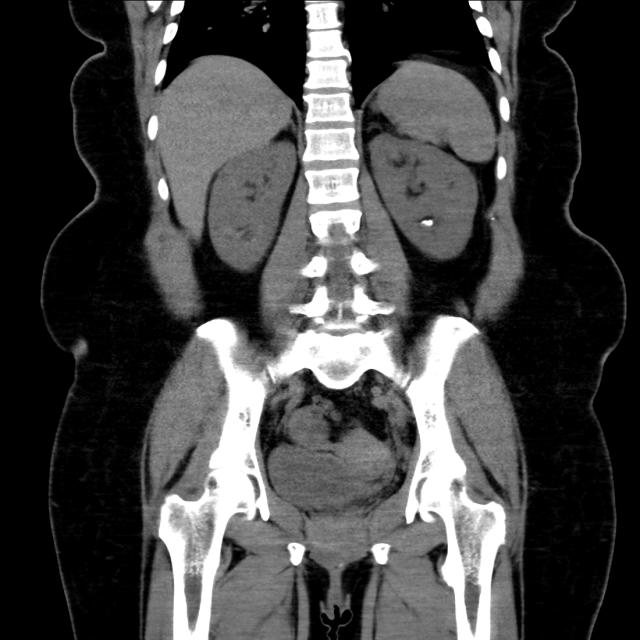kidneystone: (421, 219, 434, 226)
